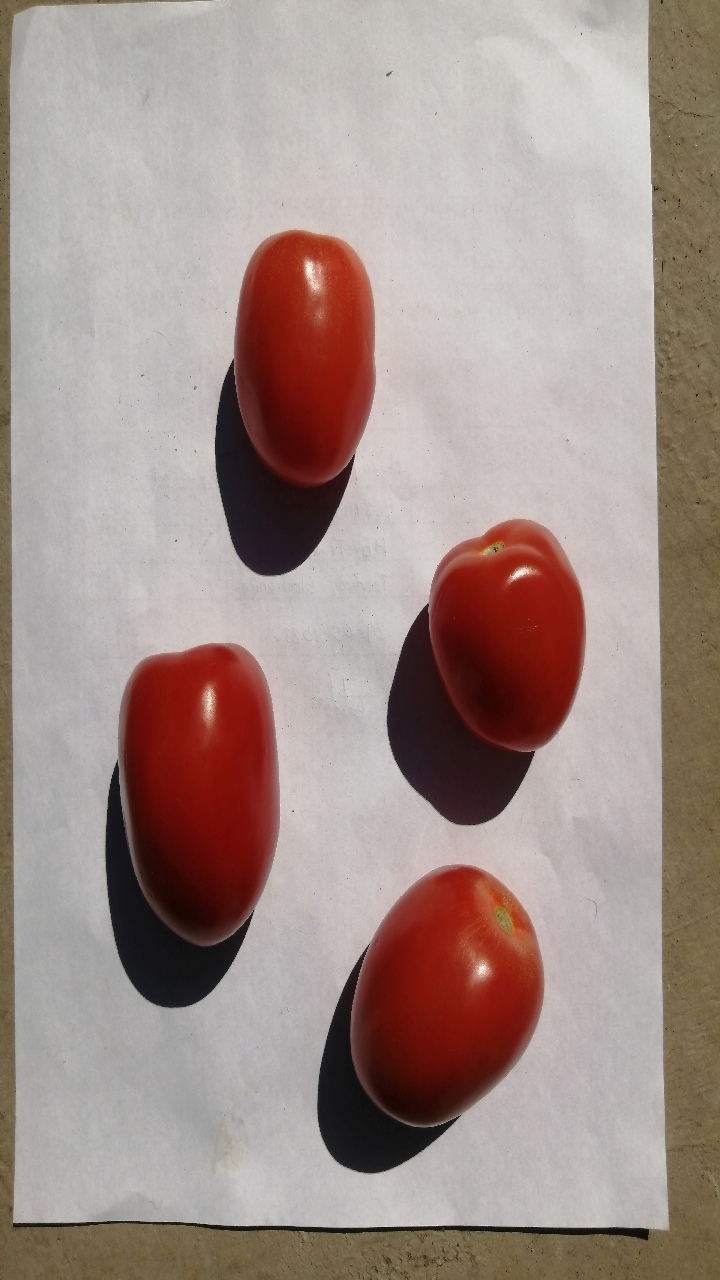tomateRojo: (324, 848, 560, 1154), (104, 625, 291, 963), (409, 491, 604, 779), (203, 217, 394, 499)
